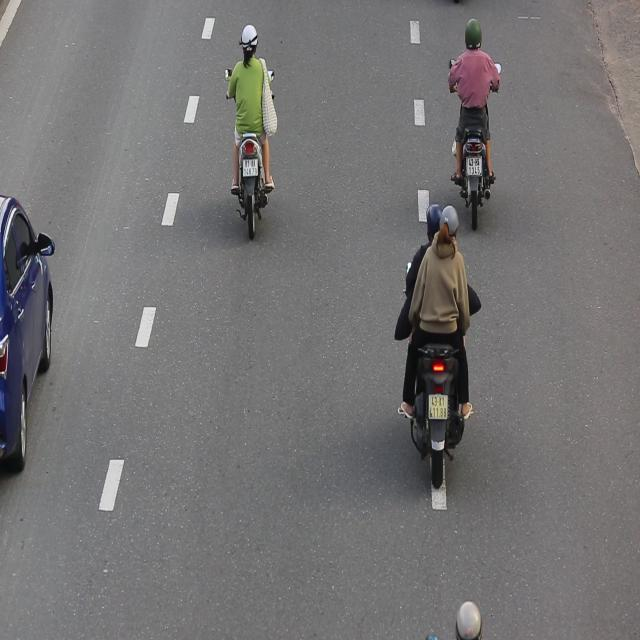motorbike: (390, 201, 487, 494), (448, 17, 502, 233), (226, 22, 278, 242)
